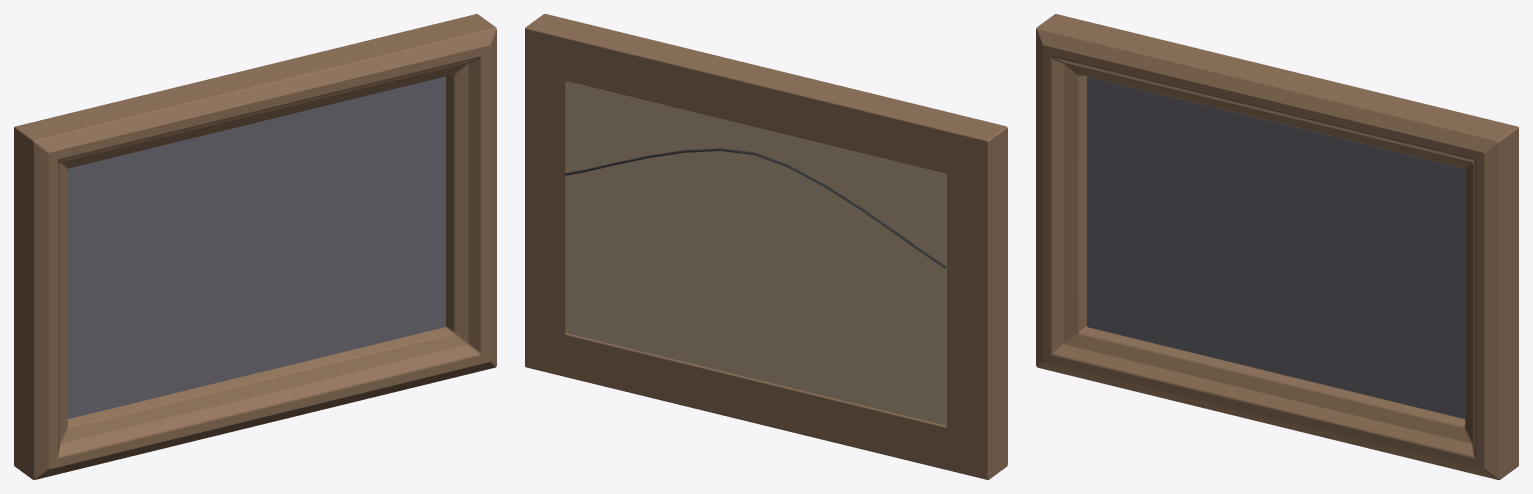
The model's file is furniture_picture_frame_c.fbx.
3 views of the same model, side by side, from view 1: azimuth 30°, elevation 25°; view 2: azimuth 150°, elevation 25°; view 3: azimuth 330°, elevation 25° (orthographic).
Visible parts, largest first — view 1: furniture_picture_frame_c; view 2: furniture_picture_frame_c; view 3: furniture_picture_frame_c.
Boxes of the visible parts, bbox=[...] form: furniture_picture_frame_c: bbox=[14, 14, 496, 479]; furniture_picture_frame_c: bbox=[525, 14, 1007, 479]; furniture_picture_frame_c: bbox=[1036, 14, 1518, 479].
Size of the model in its own units: 0.5 by 0.35 by 0.0502.
